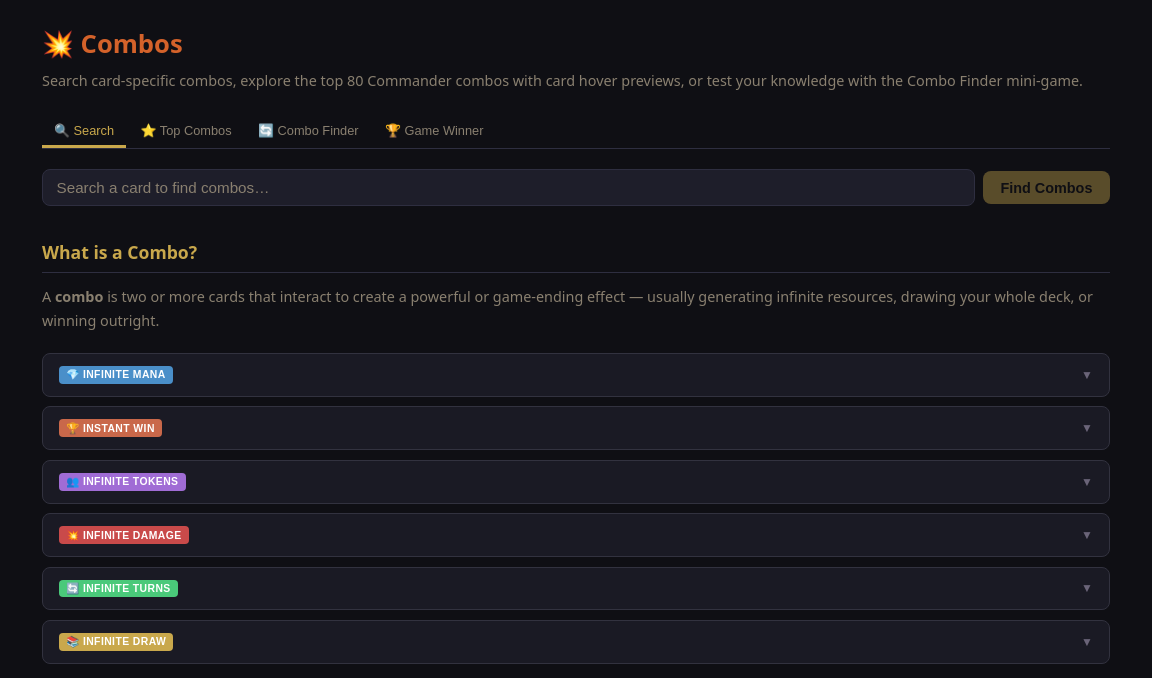
Combos page › switching to Top Combos tab shows type filter buttons
What coordinates should you click on to do the following:
click the button "⭐ Top Combos"
I would click on:
 (186, 132)
Its box is [128,116,244,148].
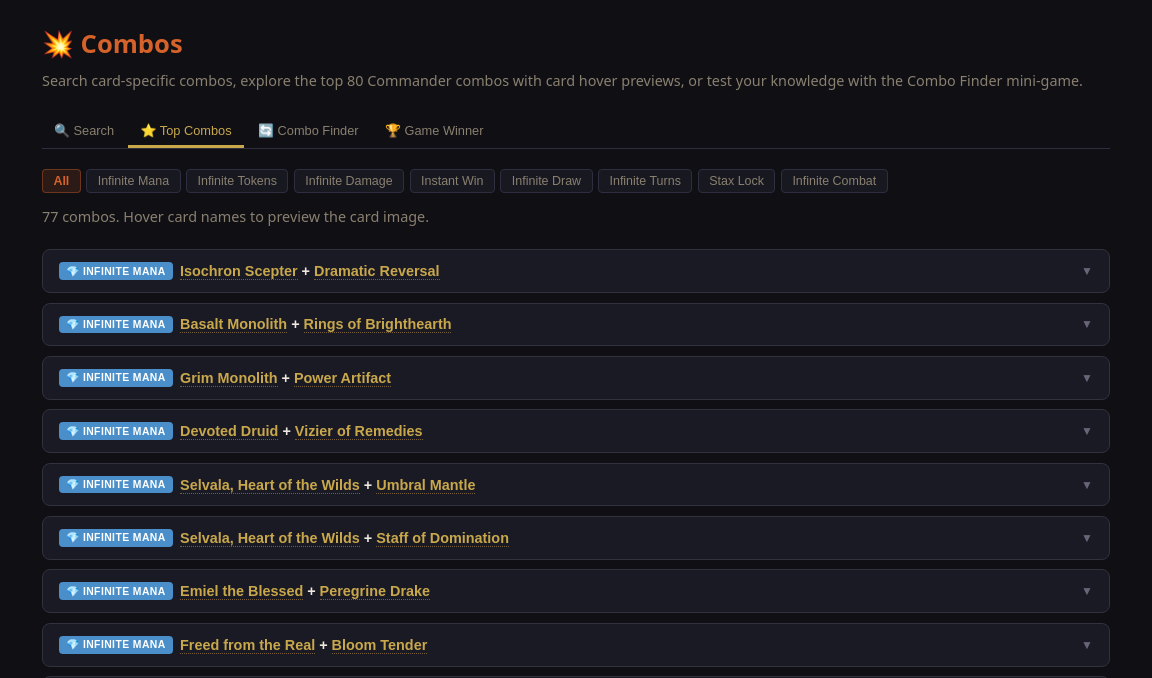
Result: the button "All" is shown at [42,169,81,193]
